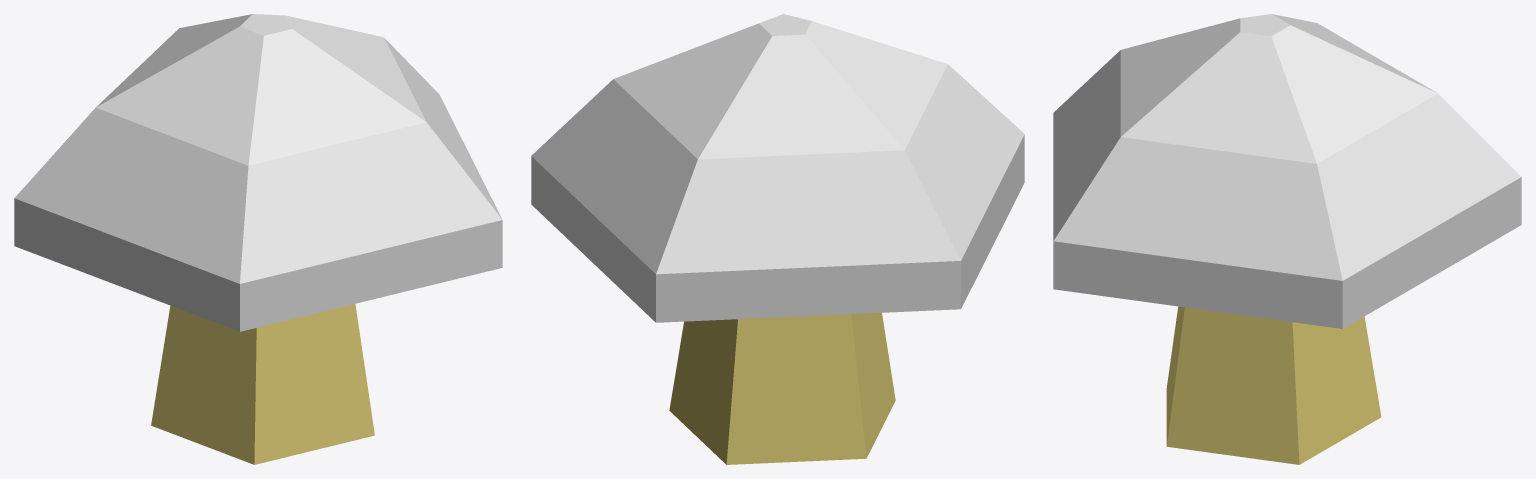
Rendered from Mushroom_2_Snow.fbx.
3 views of the same model, side by side, from view 1: azimuth 30°, elevation 25°; view 2: azimuth 150°, elevation 25°; view 3: azimuth 270°, elevation 25° (orthographic).
Parts seen in each view (by area): view 1: Mushroom_2_Snow; view 2: Mushroom_2_Snow; view 3: Mushroom_2_Snow.
Boxes of the visible parts, x1,y1,x2,y2 form: Mushroom_2_Snow: (14, 14, 502, 464); Mushroom_2_Snow: (531, 14, 1024, 464); Mushroom_2_Snow: (1053, 14, 1521, 464).
Size of the model in its own units: 39.11 by 34.38 by 37.2.
